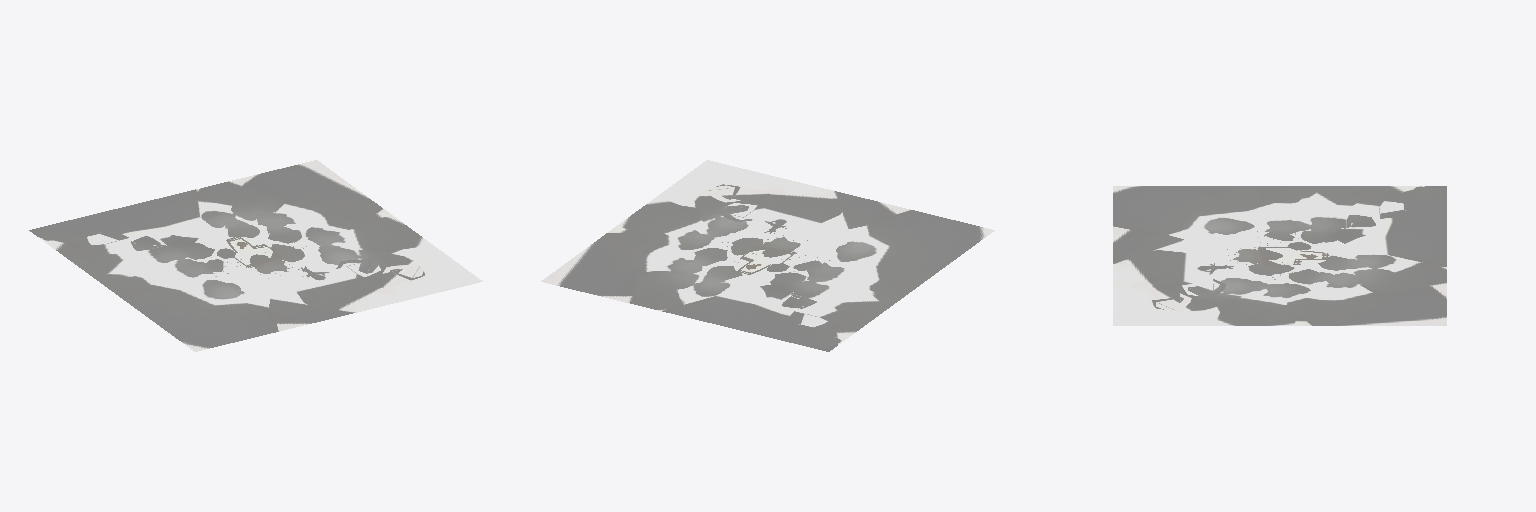
The picture shows the model from 3 angles: view 1: azimuth 30°, elevation 25°; view 2: azimuth 150°, elevation 25°; view 3: azimuth 270°, elevation 25°; orthographic projection.
Parts seen in each view (by area): view 1: Ground; view 2: Ground; view 3: Ground.
Part boxes in pixels (bbox=[...]): Ground: bbox=[29, 160, 482, 351]; Ground: bbox=[541, 160, 994, 351]; Ground: bbox=[1113, 186, 1446, 325].
Size of the model in its own units: 25.4 by 0 by 25.4.
Materials: 1 (1 with a texture image).